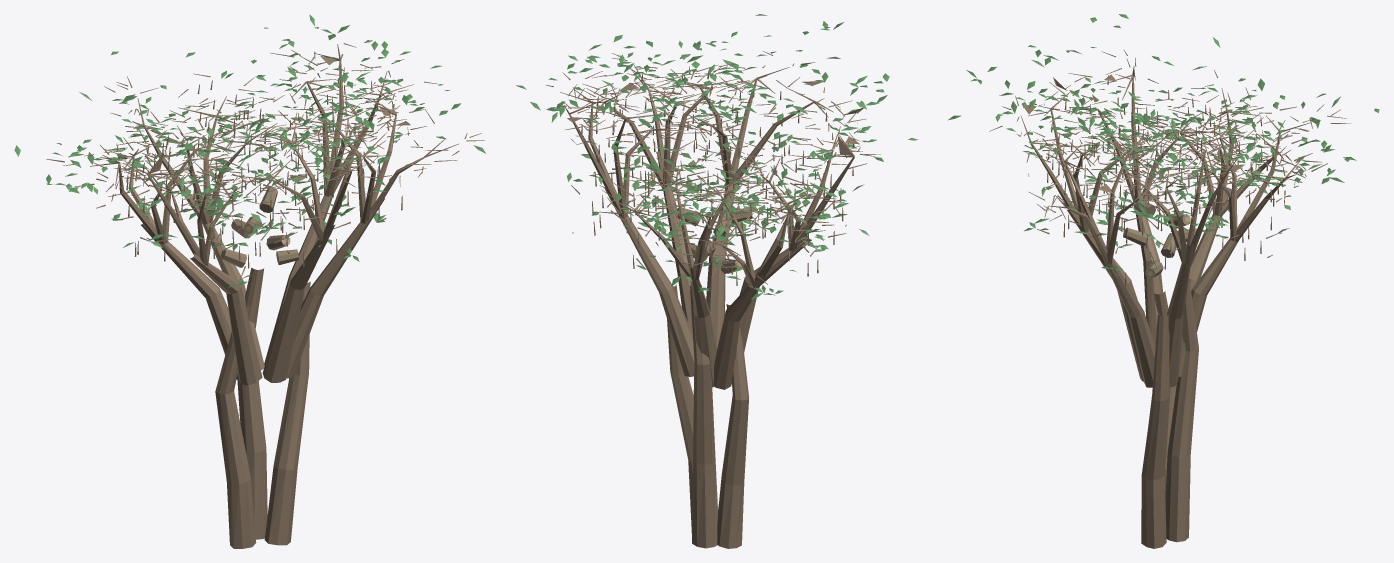
Rendered from E07_GUABIROBA_PODADA_ESTRUTURAL_CANDIDATO_REV09.glb.
3 renders of one model, left to right at view 1: azimuth 30°, elevation 25°; view 2: azimuth 150°, elevation 25°; view 3: azimuth 270°, elevation 25°, orthographic. The views are drawn at different scales.
Parts seen in each view (by area): view 1: E07_R1Z2_bark, E07_R1Z2_twig, E07_R1Z2_leaf3, E07_R1Z2_leaf4, E07_R1Z2_leaf2, E07_R1Z2_leaf0, E07_R1Z2_leaf1; view 2: E07_R1Z2_twig, E07_R1Z2_bark, E07_R1Z2_leaf3, E07_R1Z2_leaf0, E07_R1Z2_leaf1, E07_R1Z2_leaf4, E07_R1Z2_leaf2; view 3: E07_R1Z2_twig, E07_R1Z2_bark, E07_R1Z2_leaf4, E07_R1Z2_leaf3, E07_R1Z2_leaf0, E07_R1Z2_leaf2, E07_R1Z2_leaf1.
Boxes of the visible parts, box(x1,y1,x2,y2) form: E07_R1Z2_bark: box(141, 162, 384, 548); E07_R1Z2_twig: box(46, 43, 484, 280); E07_R1Z2_leaf3: box(65, 41, 443, 284); E07_R1Z2_leaf4: box(14, 14, 417, 279); E07_R1Z2_leaf2: box(55, 25, 485, 285); E07_R1Z2_leaf0: box(52, 34, 409, 254); E07_R1Z2_leaf1: box(46, 27, 446, 287); E07_R1Z2_twig: box(546, 51, 880, 290); E07_R1Z2_bark: box(604, 151, 811, 548); E07_R1Z2_leaf3: box(548, 21, 889, 299); E07_R1Z2_leaf0: box(546, 14, 887, 293); E07_R1Z2_leaf1: box(556, 46, 867, 295); E07_R1Z2_leaf4: box(551, 35, 918, 293); E07_R1Z2_leaf2: box(516, 28, 868, 292); E07_R1Z2_twig: box(989, 49, 1351, 286); E07_R1Z2_bark: box(1066, 187, 1247, 548); E07_R1Z2_leaf4: box(995, 17, 1379, 239); E07_R1Z2_leaf3: box(971, 14, 1327, 269); E07_R1Z2_leaf0: box(948, 49, 1344, 269); E07_R1Z2_leaf2: box(978, 56, 1302, 248); E07_R1Z2_leaf1: box(999, 57, 1356, 269).
Bounding box in the file's own units: 4.21 × 5.27 × 4.29.
